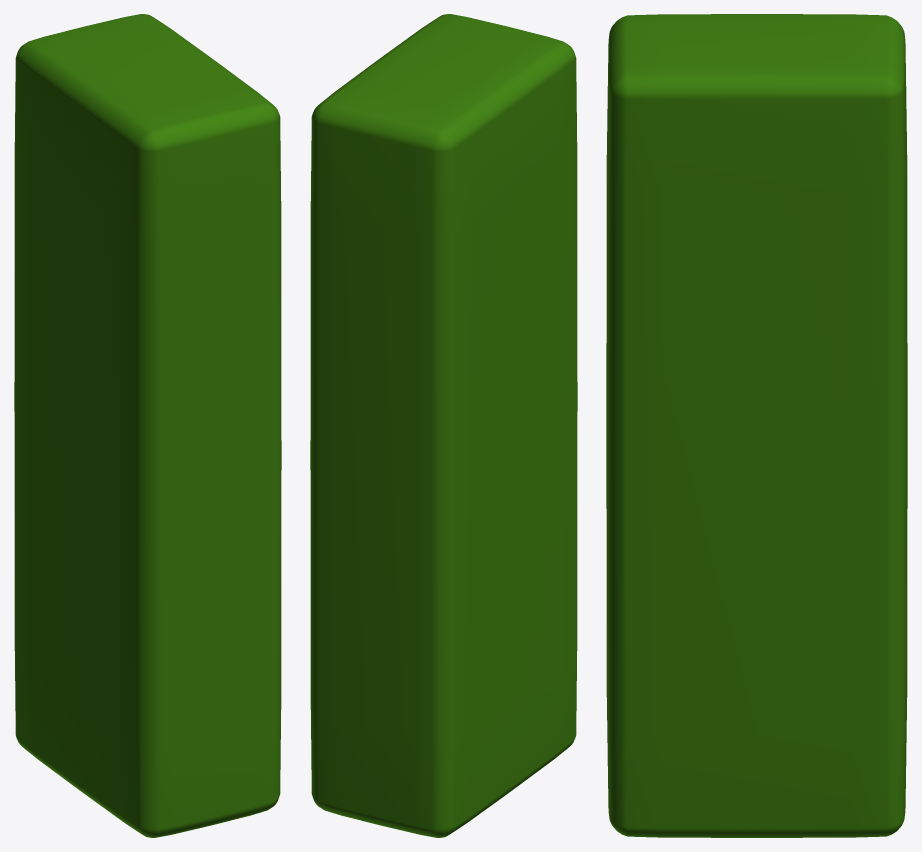
The picture shows the model from 3 angles, left to right: view 1: azimuth 30°, elevation 25°; view 2: azimuth 150°, elevation 25°; view 3: azimuth 270°, elevation 25°; orthographic projection. The views are drawn at different scales.
Parts seen in each view (by area): view 1: Box5_High; view 2: Box5_High; view 3: Box5_High.
Part boxes in pixels (x1,y1,x2,y2): Box5_High: (14, 14, 281, 837); Box5_High: (310, 14, 577, 837); Box5_High: (606, 14, 907, 837).
Size of the model in its own units: 0.4364 by 2.02 by 0.7195.
